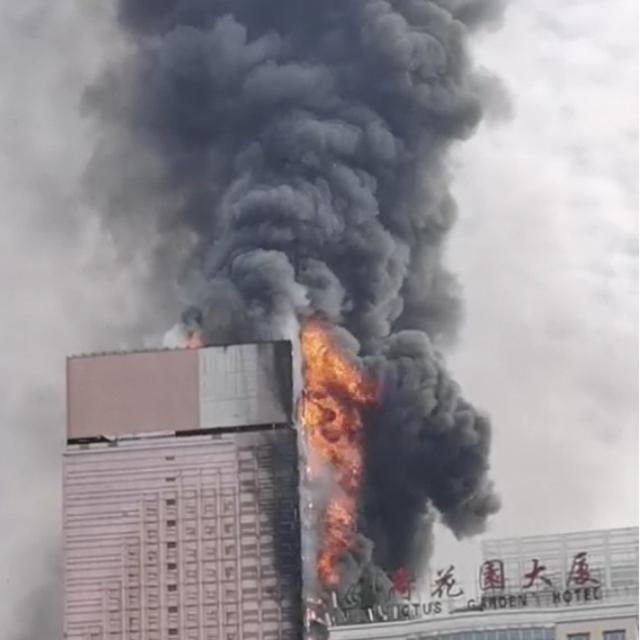fire: (251, 214, 444, 506)
